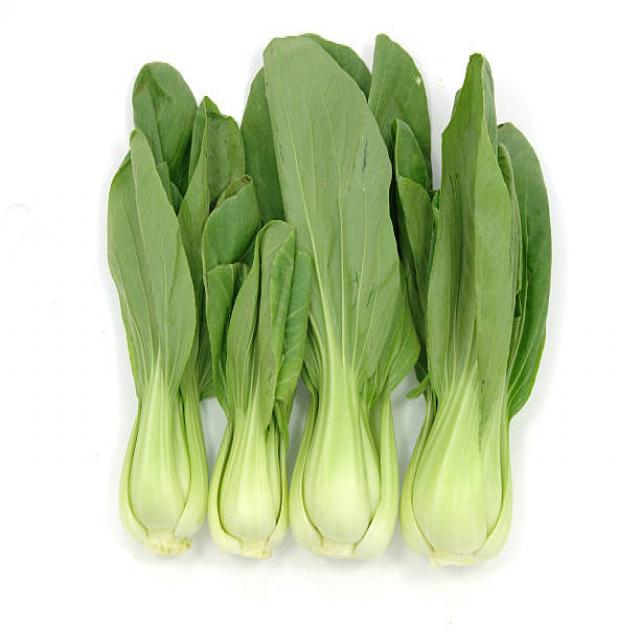Bok Choy: (298, 63, 419, 574), (422, 85, 530, 578), (106, 167, 201, 564), (211, 215, 292, 562)
